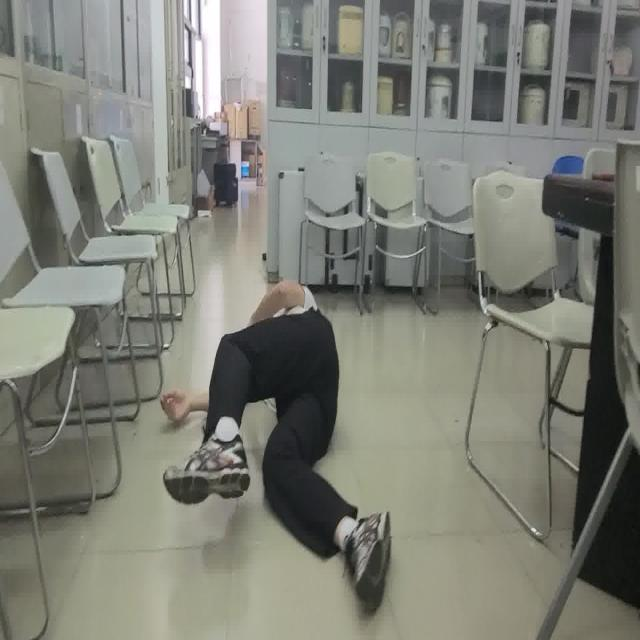Fall-Detected: (161, 278, 393, 621)
